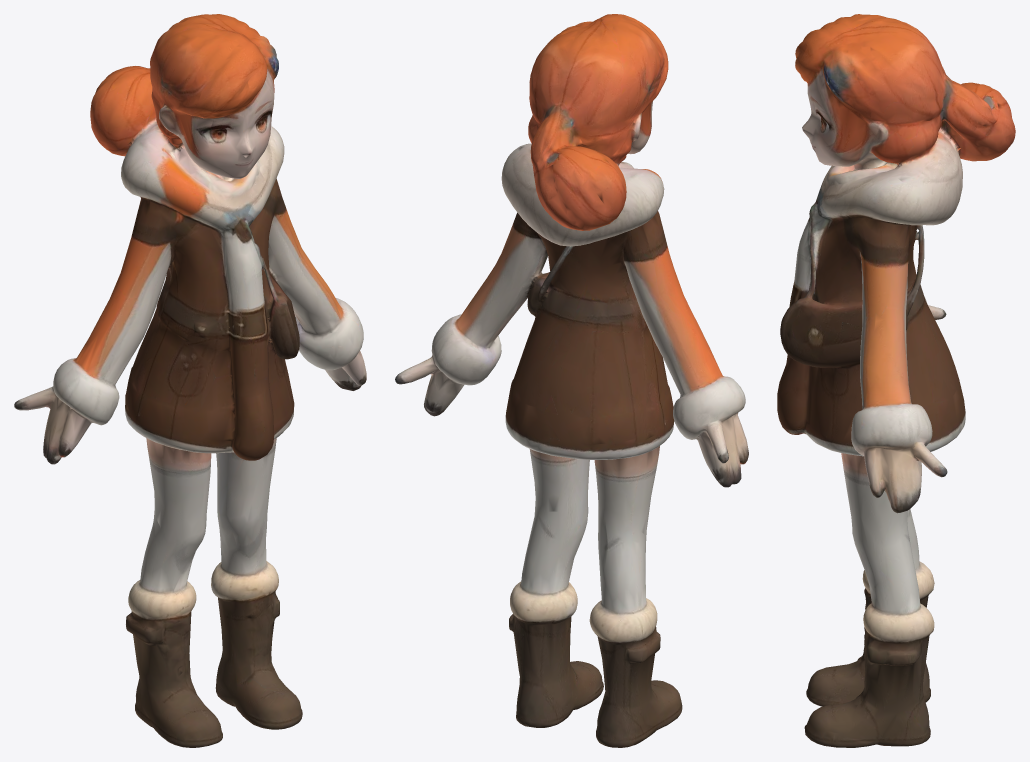
The model's file is nami.opt.glb.
The picture shows the model from 3 angles, left to right: view 1: azimuth 30°, elevation 25°; view 2: azimuth 150°, elevation 25°; view 3: azimuth 270°, elevation 25°; orthographic projection.
Size of the model in its own units: 1.01 by 2 by 0.6243.
1 material, 1 textured.
